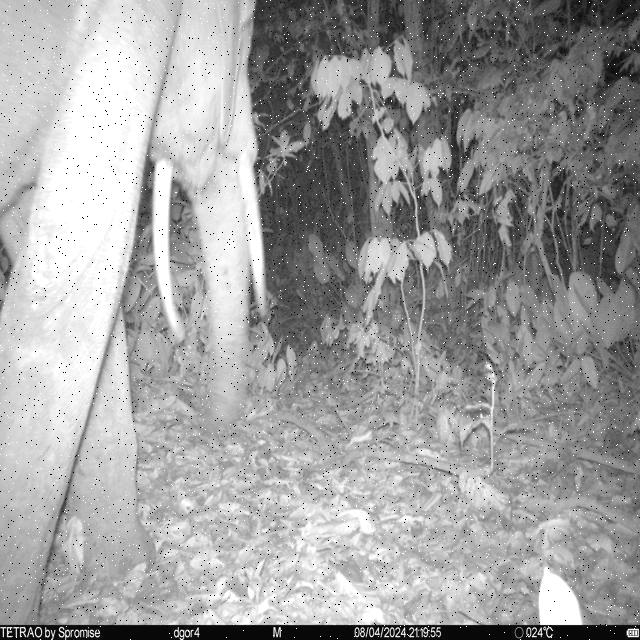elephant: (0, 0, 271, 624)
tusk: (151, 160, 185, 343), (235, 154, 267, 316)
